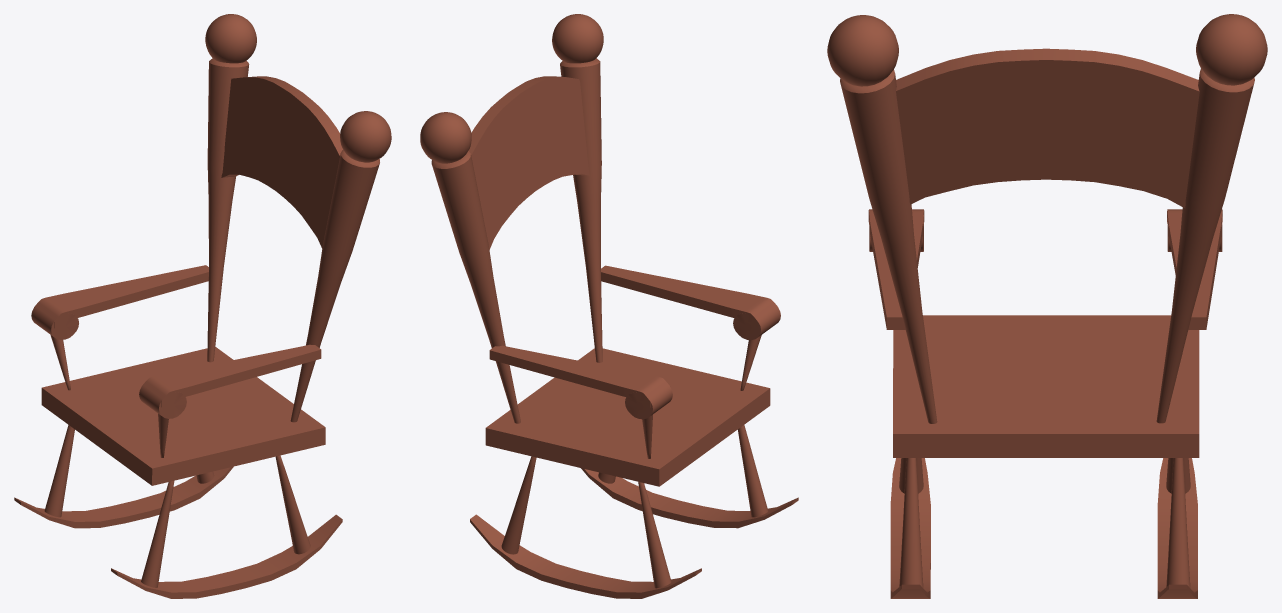
Rendered from silla.obj.
The picture shows the model from 3 angles, left to right: view 1: azimuth 30°, elevation 25°; view 2: azimuth 150°, elevation 25°; view 3: azimuth 270°, elevation 25°; orthographic projection. The views are drawn at different scales.
Parts seen in each view (by area): view 1: group2_pasted__pasted__polySurface1; view 2: group2_pasted__pasted__polySurface1; view 3: group2_pasted__pasted__polySurface1.
Part boxes in pixels (box(x1,y1,x2,y2)): group2_pasted__pasted__polySurface1: box(14, 14, 391, 598); group2_pasted__pasted__polySurface1: box(420, 14, 798, 598); group2_pasted__pasted__polySurface1: box(827, 14, 1267, 598).
Bounding box in the file's own units: 1.61 × 2.72 × 1.73.
Materials: 1 (1 with a texture image).
